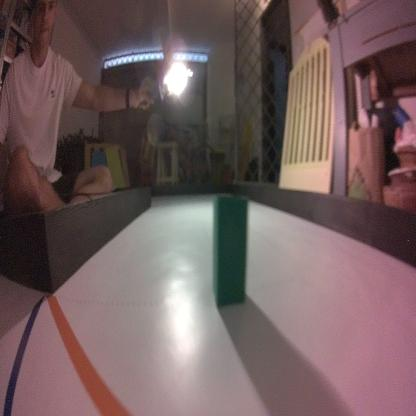green: (211, 190, 249, 310)
